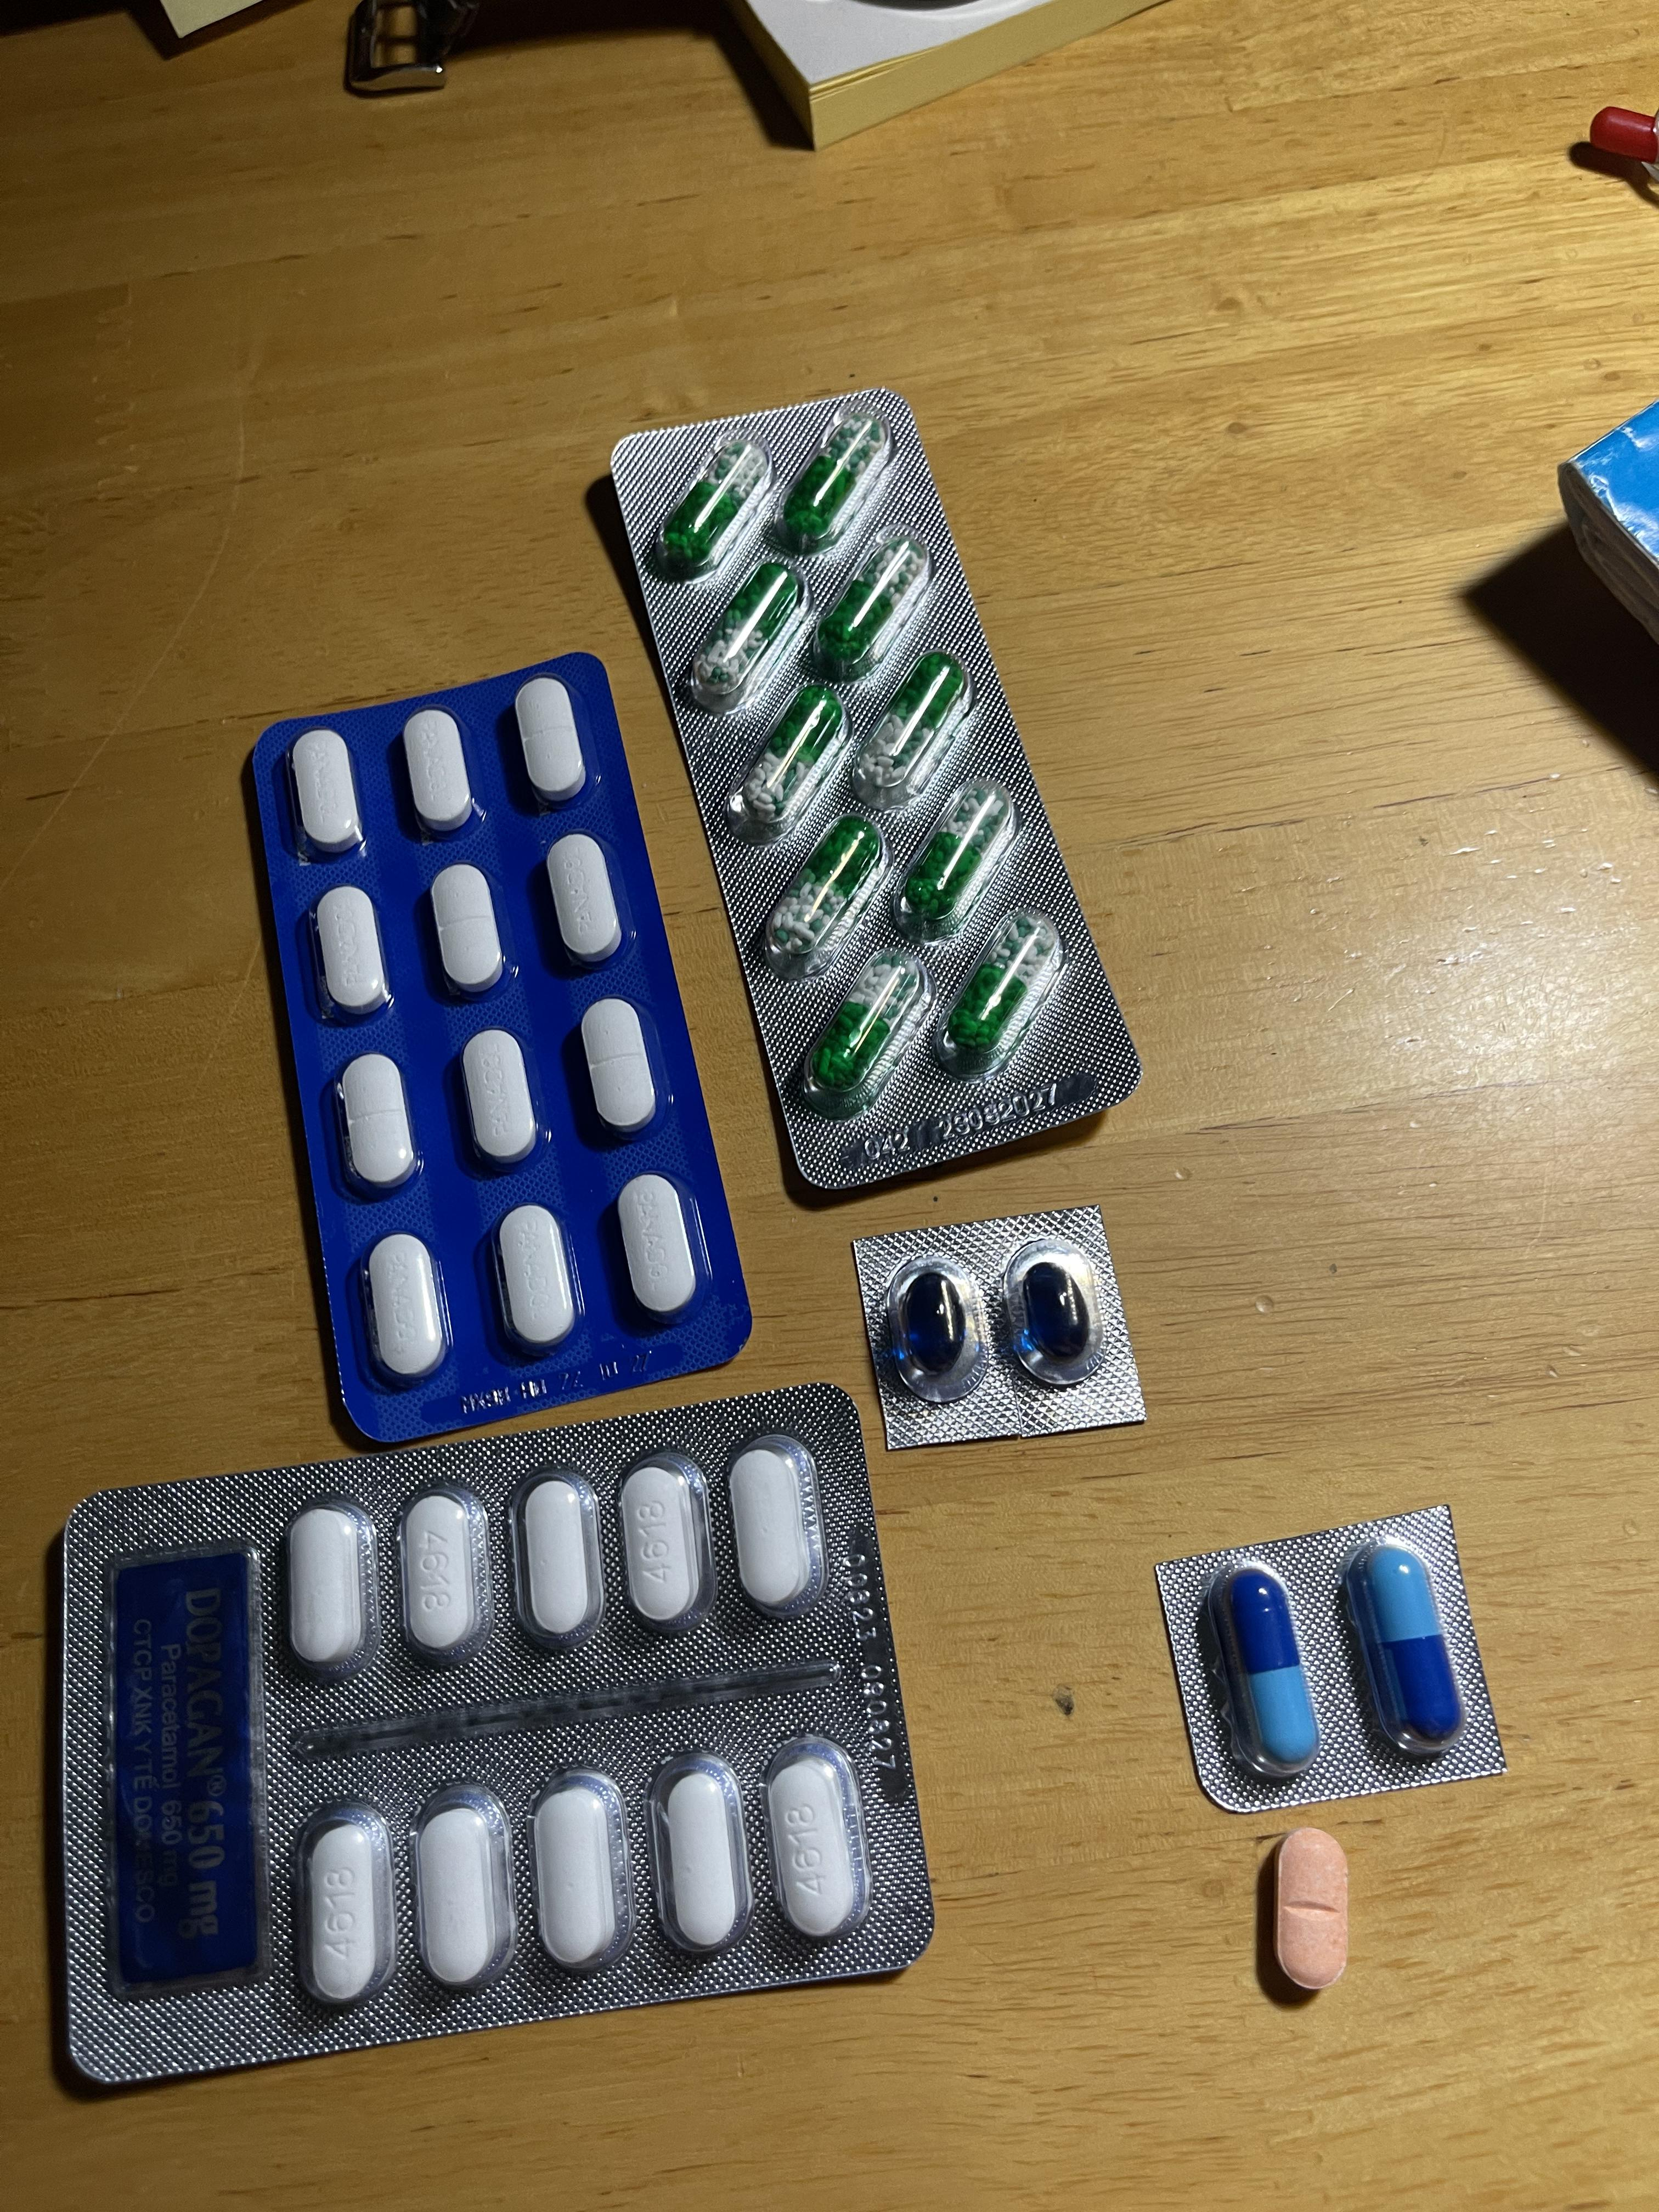Lincomyxin_500mg: (903, 1271, 967, 1374), (1023, 1261, 1087, 1360)
Loratadine_10mg: (1272, 1827, 1351, 1993)
Paracetamol_350mg: (362, 1233, 446, 1385), (495, 1204, 579, 1353), (617, 1172, 699, 1317), (338, 1052, 418, 1195), (462, 1029, 538, 1169), (582, 998, 659, 1136), (545, 833, 624, 967), (315, 885, 389, 1015), (432, 866, 505, 996), (289, 730, 364, 855), (514, 678, 587, 805), (403, 709, 474, 833)
Paracetamol_500mg: (410, 1787, 519, 1993), (293, 1804, 397, 2010), (648, 1752, 751, 1959), (763, 1738, 864, 1949), (532, 1775, 634, 1979), (401, 1479, 495, 1665), (511, 1468, 606, 1649), (615, 1453, 711, 1632), (730, 1447, 809, 1608), (289, 1507, 364, 1665)
Paracetamol_650mg: (796, 953, 939, 1116), (934, 909, 1072, 1076), (849, 648, 979, 812), (751, 806, 882, 968), (687, 552, 812, 709), (652, 427, 777, 578), (816, 533, 938, 686), (730, 674, 847, 833), (782, 409, 887, 547), (899, 819, 1004, 928)
pill: (1361, 1547, 1457, 1745), (1225, 1569, 1316, 1770)
